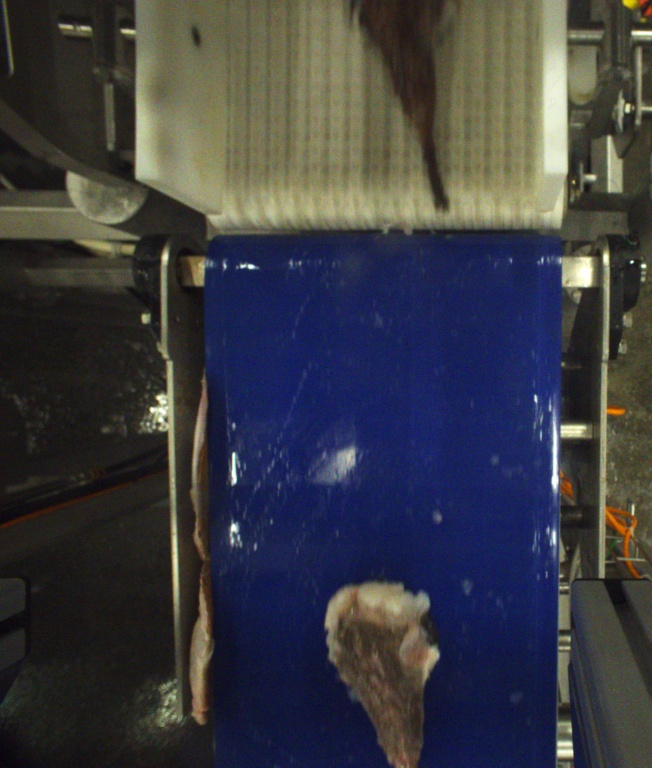ANF: (346, 0, 454, 212)
